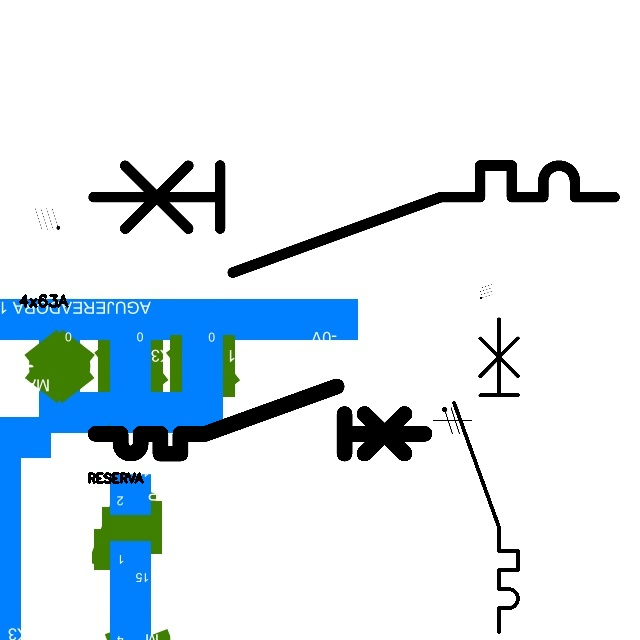interruptor_termomagnetico: (80, 152, 628, 286), (87, 378, 433, 462), (446, 311, 526, 640)
